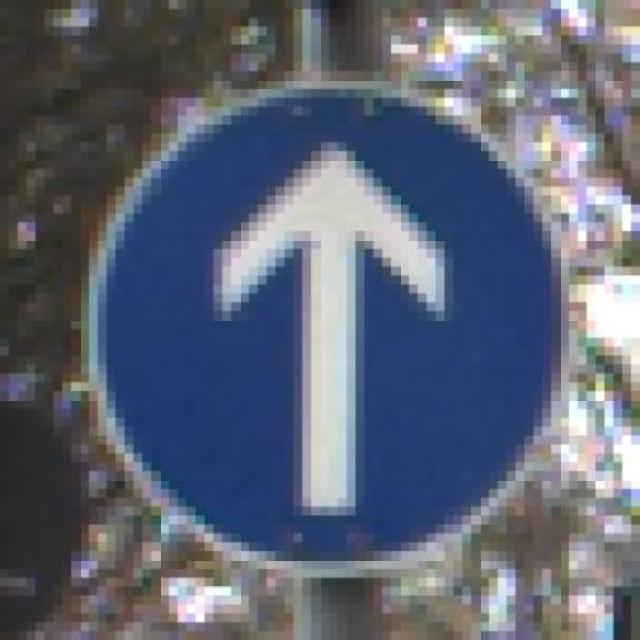Straight Ahead Only: (71, 71, 595, 587)
